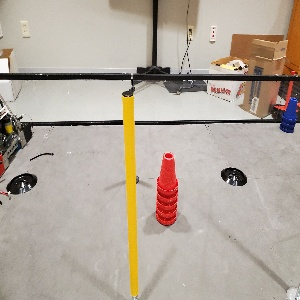Red_5: (152, 151, 179, 227)
